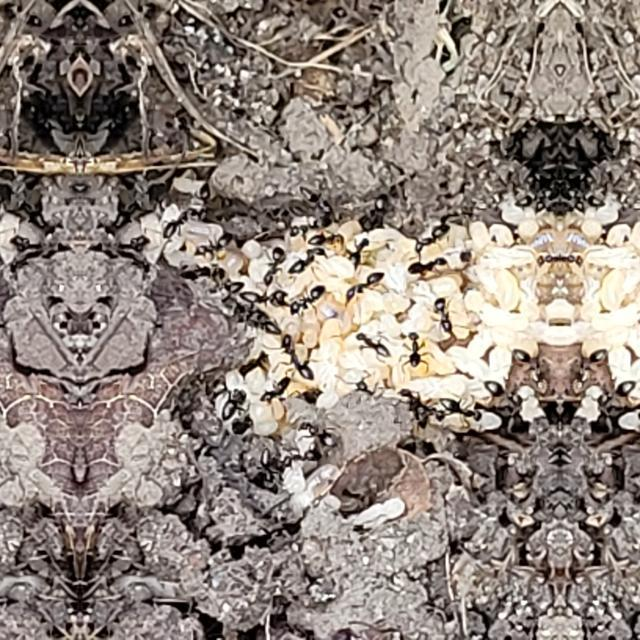Tapinoma: (504, 337, 554, 391), (566, 337, 616, 391), (220, 294, 286, 332), (277, 329, 319, 387), (443, 389, 515, 421), (246, 371, 294, 419), (394, 381, 434, 432), (339, 264, 385, 308), (287, 234, 329, 282), (296, 412, 346, 452), (296, 180, 344, 220), (160, 198, 200, 244), (354, 188, 391, 236), (351, 324, 403, 358), (409, 218, 451, 260), (482, 372, 530, 408), (590, 372, 638, 408), (286, 280, 328, 320), (190, 228, 236, 264), (429, 289, 459, 341), (215, 382, 252, 422), (259, 242, 289, 290), (409, 252, 453, 284), (258, 446, 302, 478), (258, 371, 294, 409), (240, 284, 292, 308), (190, 179, 216, 225), (344, 230, 372, 272), (404, 325, 428, 373), (604, 389, 640, 421), (348, 370, 380, 396), (534, 244, 560, 272), (560, 244, 586, 272)
